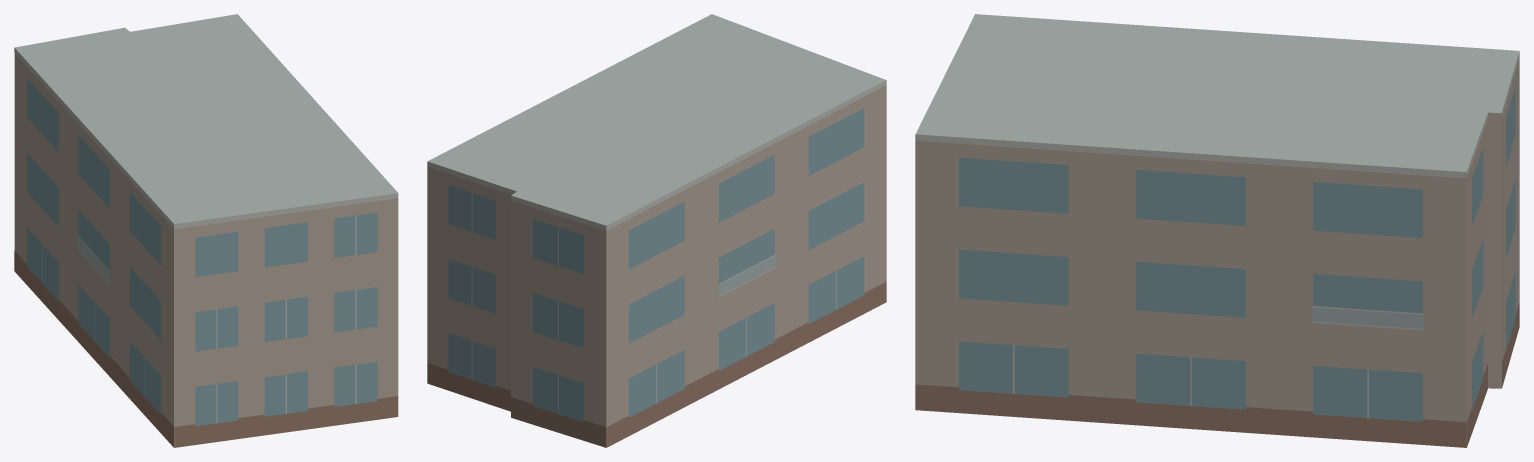
The model's file is survey-upis-32674721.glb.
3 views of the same model, side by side, from view 1: azimuth 30°, elevation 25°; view 2: azimuth 150°, elevation 25°; view 3: azimuth 270°, elevation 25° (orthographic). The views are drawn at different scales.
Visible parts, largest first — view 1: survey-upis-32674721.tmp; view 2: survey-upis-32674721.tmp; view 3: survey-upis-32674721.tmp.
Boxes of the visible parts, x1,y1,x2,y2 form: survey-upis-32674721.tmp: (14,14,398,447); survey-upis-32674721.tmp: (427,14,886,447); survey-upis-32674721.tmp: (915,14,1519,447).
Size of the model in its own units: 13.05 by 10.6 by 21.06.
